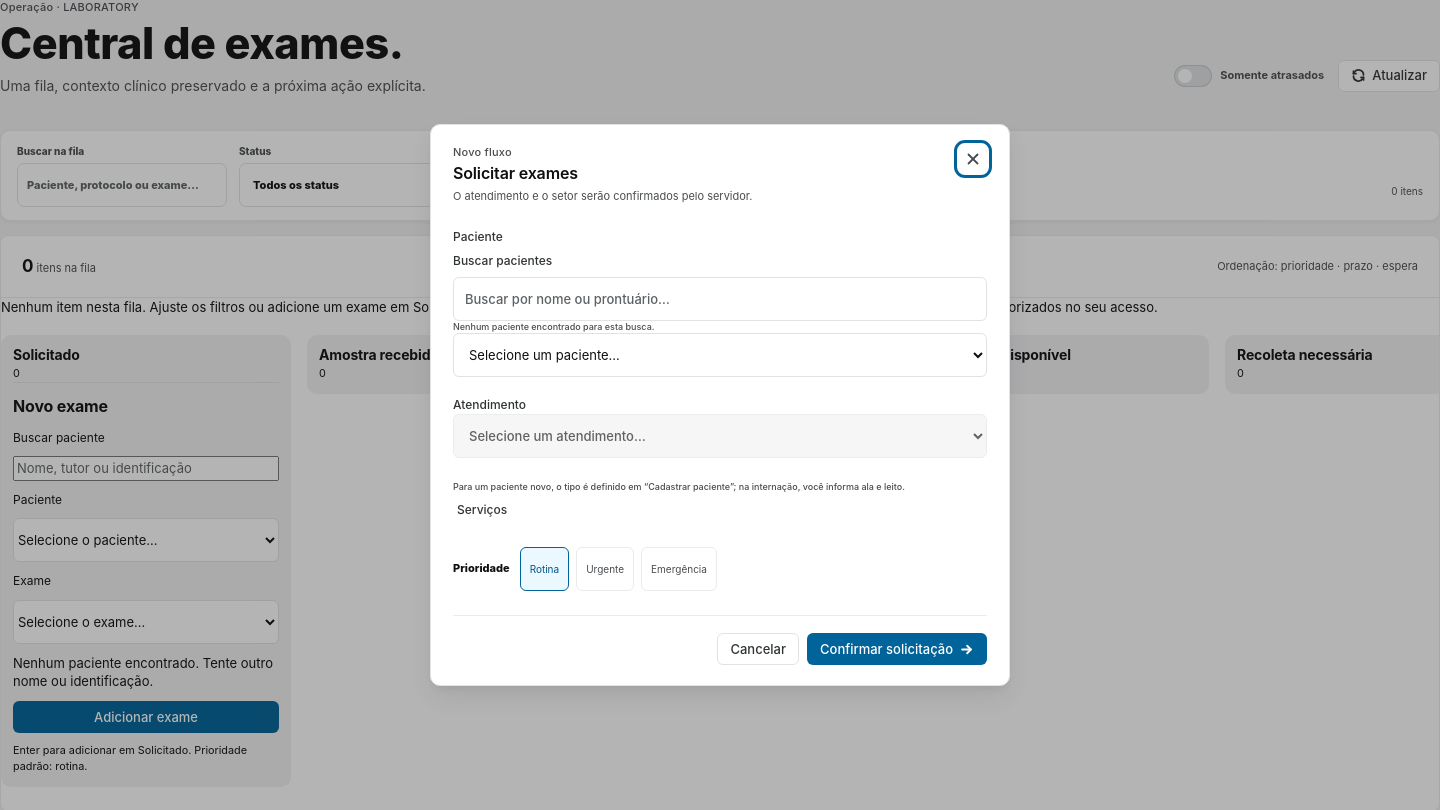
Test: QueueView board integration › opens the existing request dialog from the global event for MANAGER
This screenshot has width=1440, height=810.
Check: the form named "Adicionar exame à fila" is shown, box top-left (13, 382), bottom-right (279, 775)
Check: the dialog "Solicitar exames" is shown, box top-left (430, 124), bottom-right (1010, 686)
Click the button named "Fechar". click: (973, 159)
box: top-left (959, 145), bottom-right (987, 173)
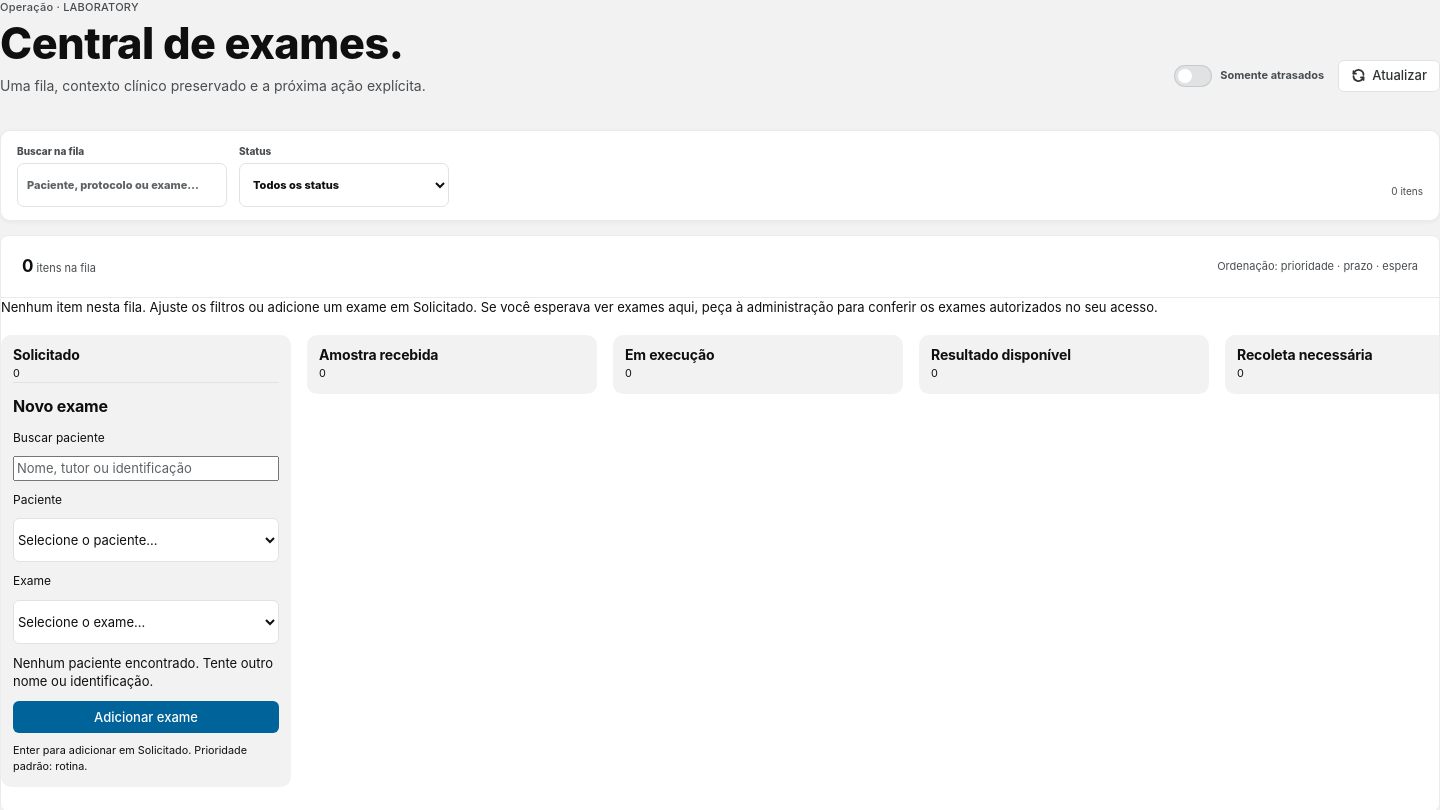
Check: the dialog is gone
